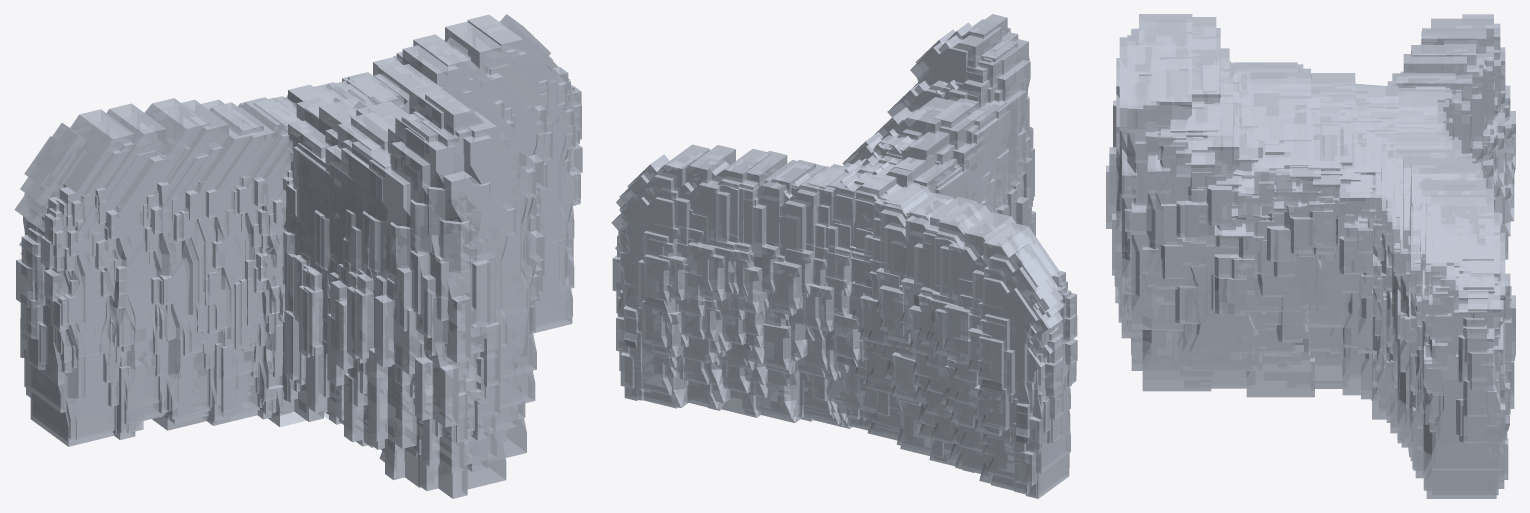
Rendered from buildingfbx.fbx.
3 views of the same model, side by side, from view 1: azimuth 30°, elevation 25°; view 2: azimuth 150°, elevation 25°; view 3: azimuth 270°, elevation 25° (orthographic). The views are drawn at different scales.
Visible parts, largest first — view 1: Cube.002; view 2: Cube.002; view 3: Cube.002.
Boxes of the visible parts, x1,y1,x2,y2 form: Cube.002: (14, 14, 582, 498); Cube.002: (611, 14, 1077, 498); Cube.002: (1106, 14, 1515, 498).
Bounding box in the file's own units: 45532 × 31761 × 32421.
